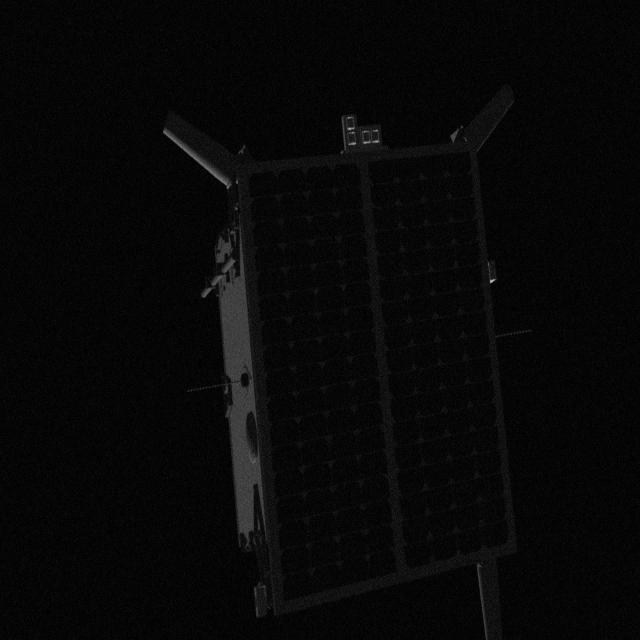satellite: (166, 78, 540, 640)
